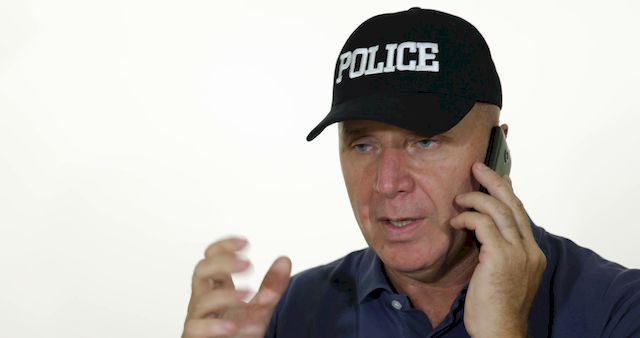phone: (467, 129, 517, 243)
talk: (339, 125, 549, 338)
